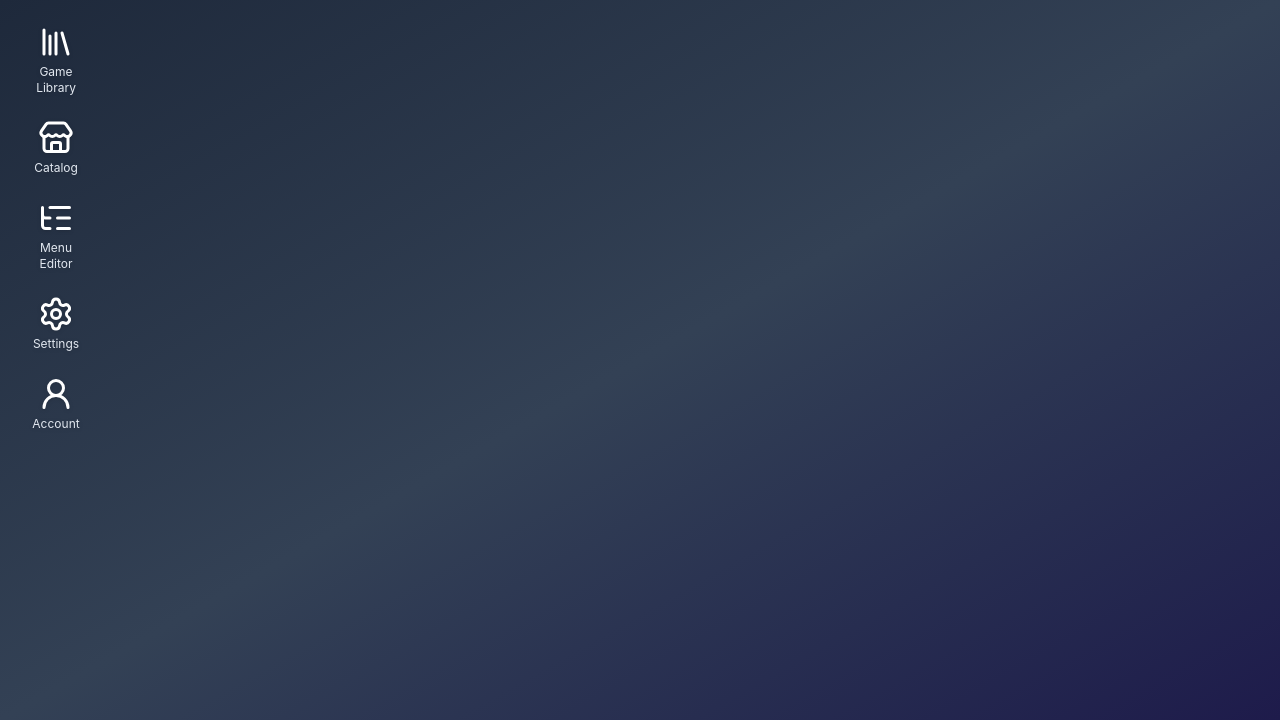
Test: Desktop › FR-SHELL-1: double-clicking a desktop icon opens the app window
The width and height of the screenshot is (1280, 720).
Double-click the button "Settings".
double_click(56, 324)  # box x1=16 y1=288 x2=96 y2=360
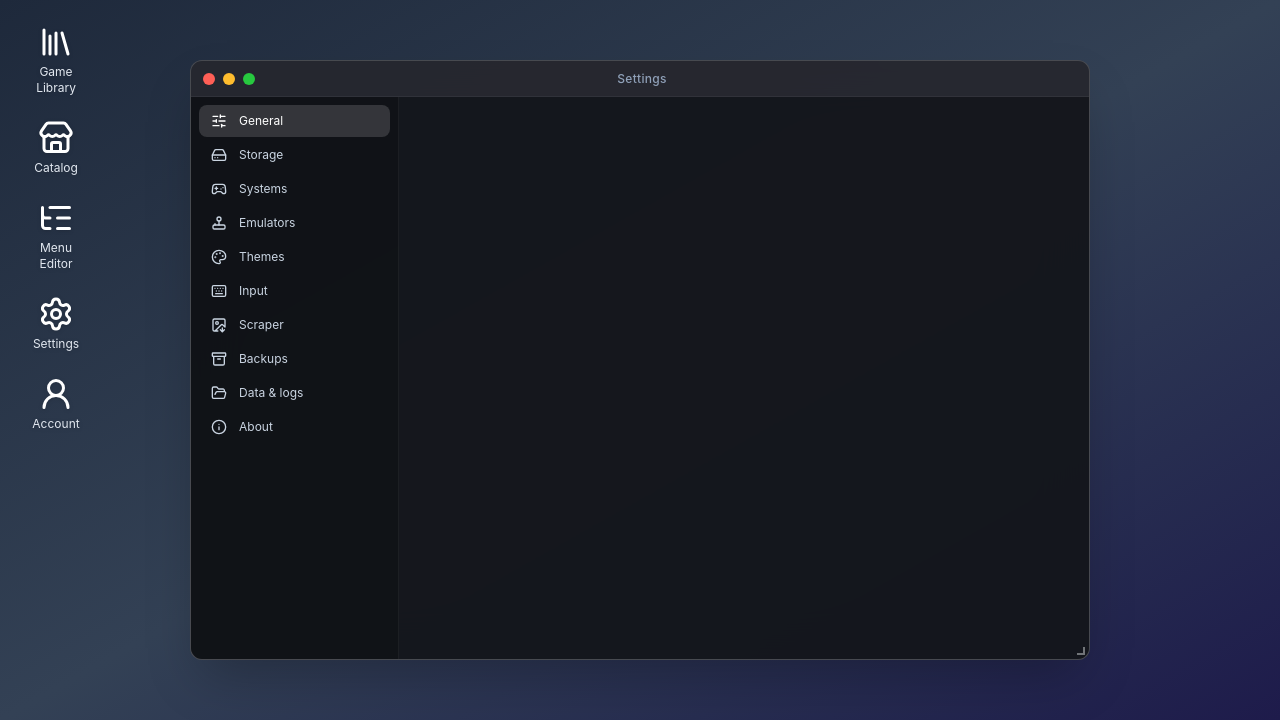
Result: the dialog "Settings" is shown at x1=190 y1=60 x2=1090 y2=660
